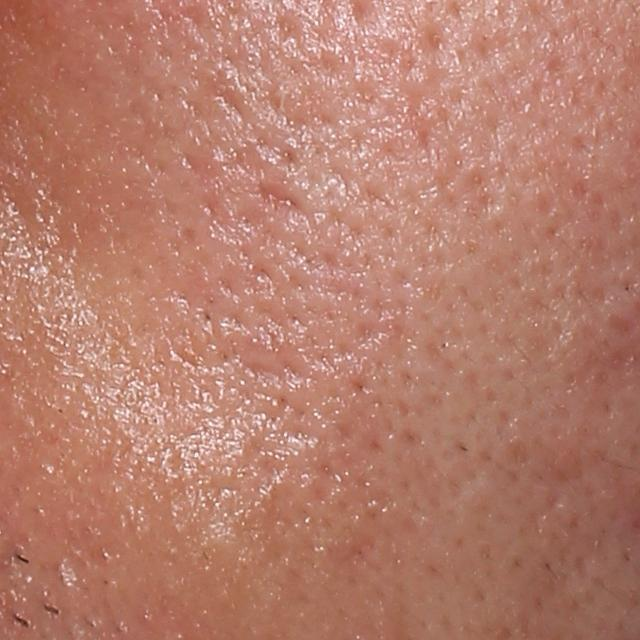atrophic_scar: (421, 17, 459, 65), (260, 181, 303, 214)
